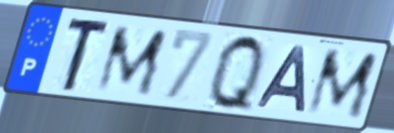7: (163, 27, 218, 105)
A: (254, 45, 308, 115)
M: (302, 48, 382, 121), (92, 25, 171, 98)
Q: (207, 32, 267, 117)
T: (59, 18, 114, 94)
